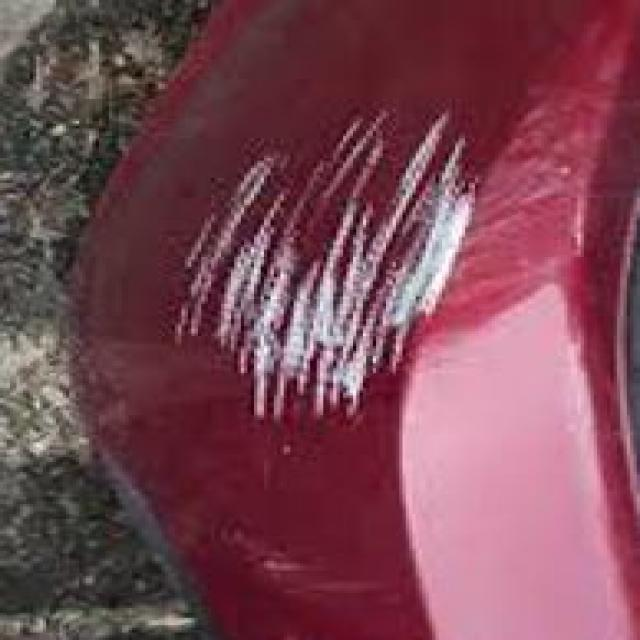scratch: (130, 77, 490, 420)
